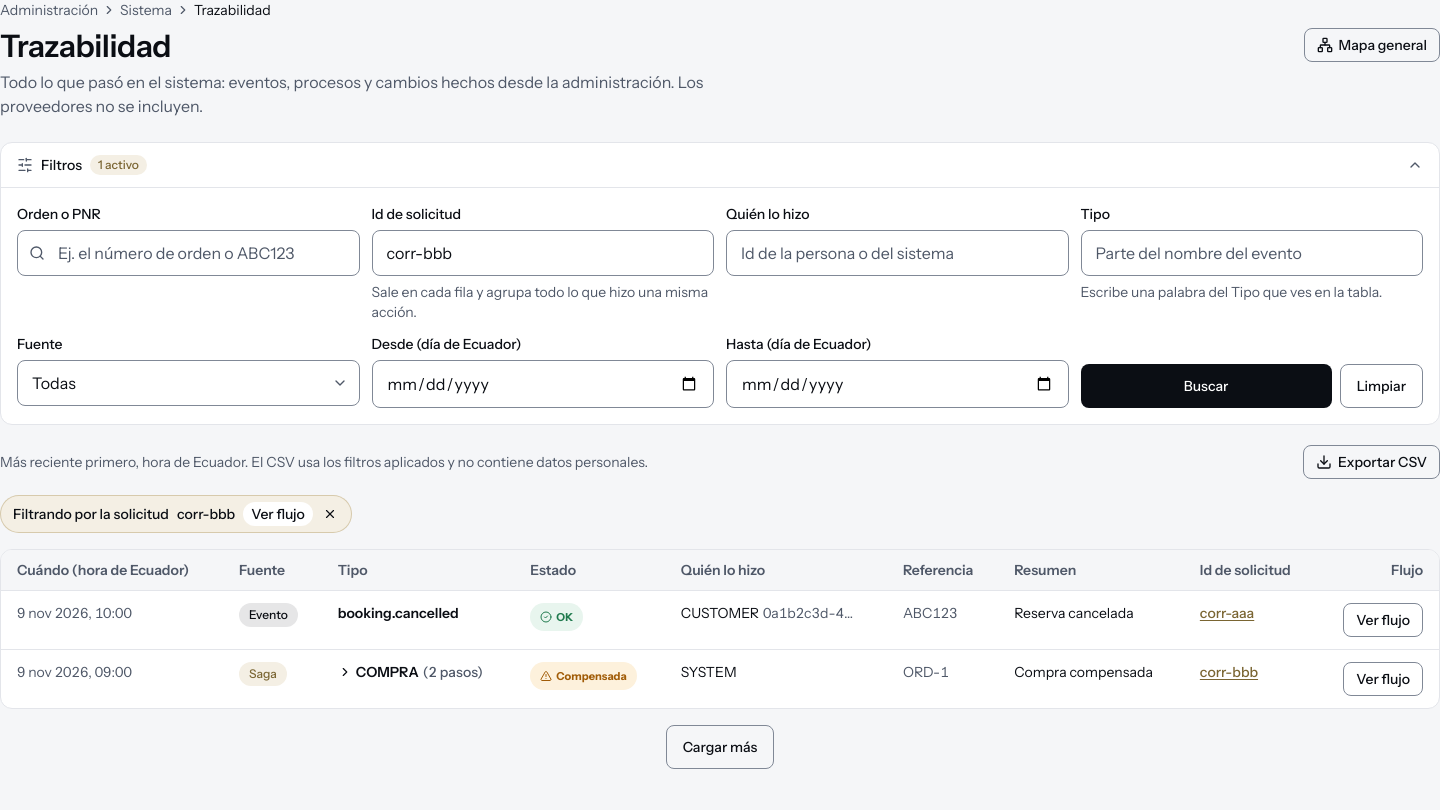
Test: AdminAuditPage (trazabilidad) › reads the correlation id from the link and offers the flow for the order in the filter
Expected: the text "booking.cancelled" is shown, [322,590,514,650]
Expected: the field labelled "Id de solicitud" holds "corr-bbb", [372,230,714,276]
Step 1. Type "ORD-1" into the dropdown labelled "Orden o PNR" → (188, 253), box [17,230,360,276]
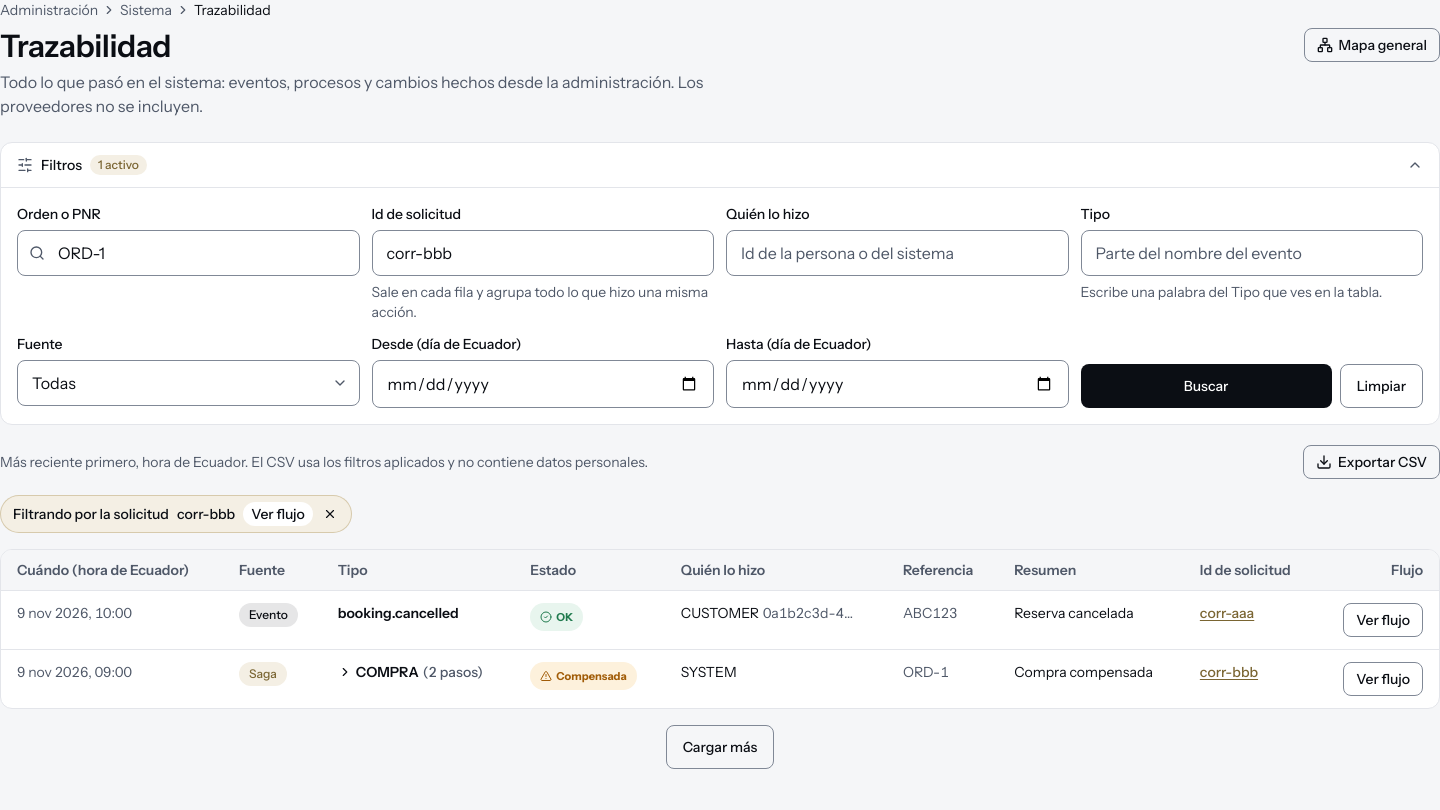
Step 2. Click the button "Buscar" → (1206, 386), box [1080,364,1332,408]
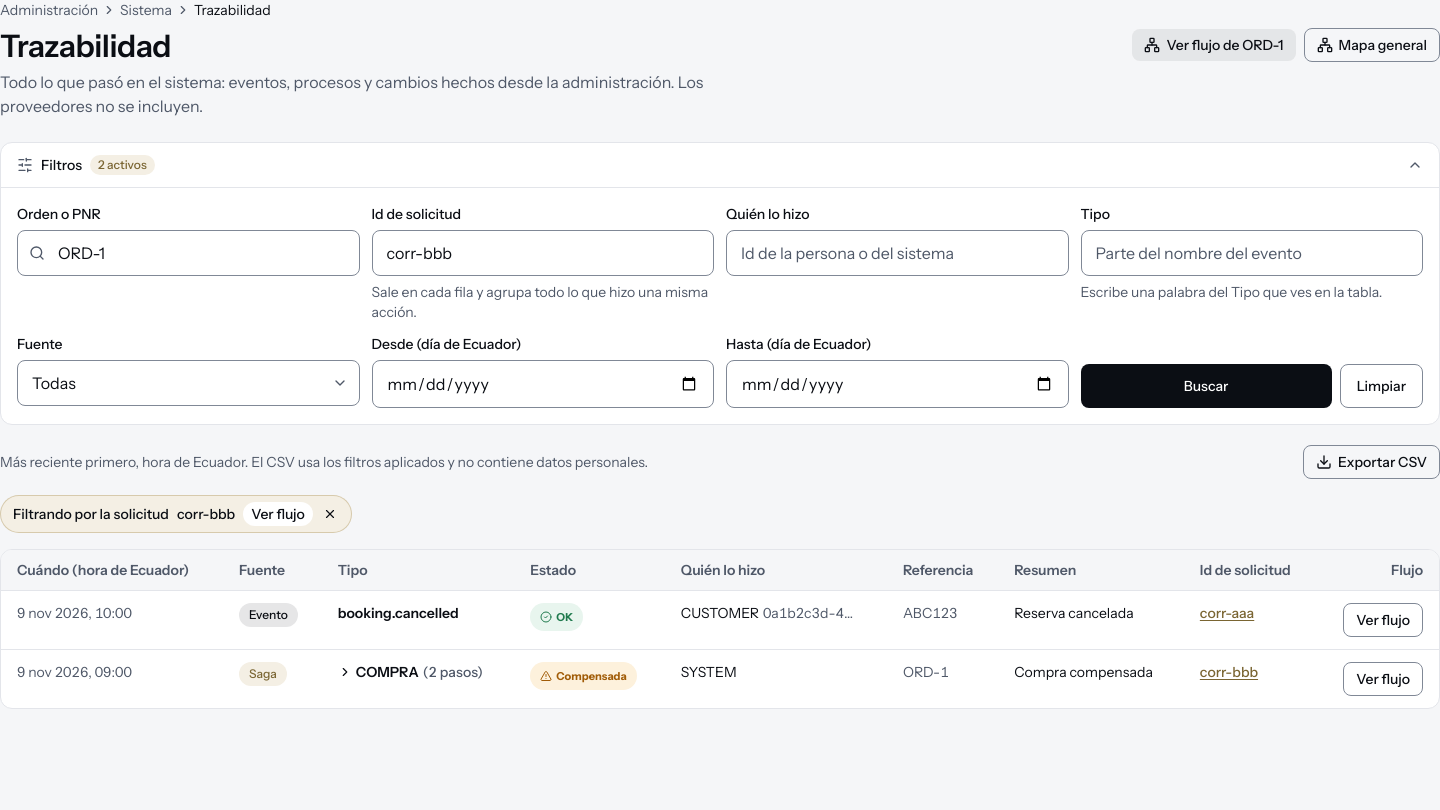
Step 3. Click the button "Ver flujo de ORD-1" → (1214, 45), box [1132,29,1296,61]
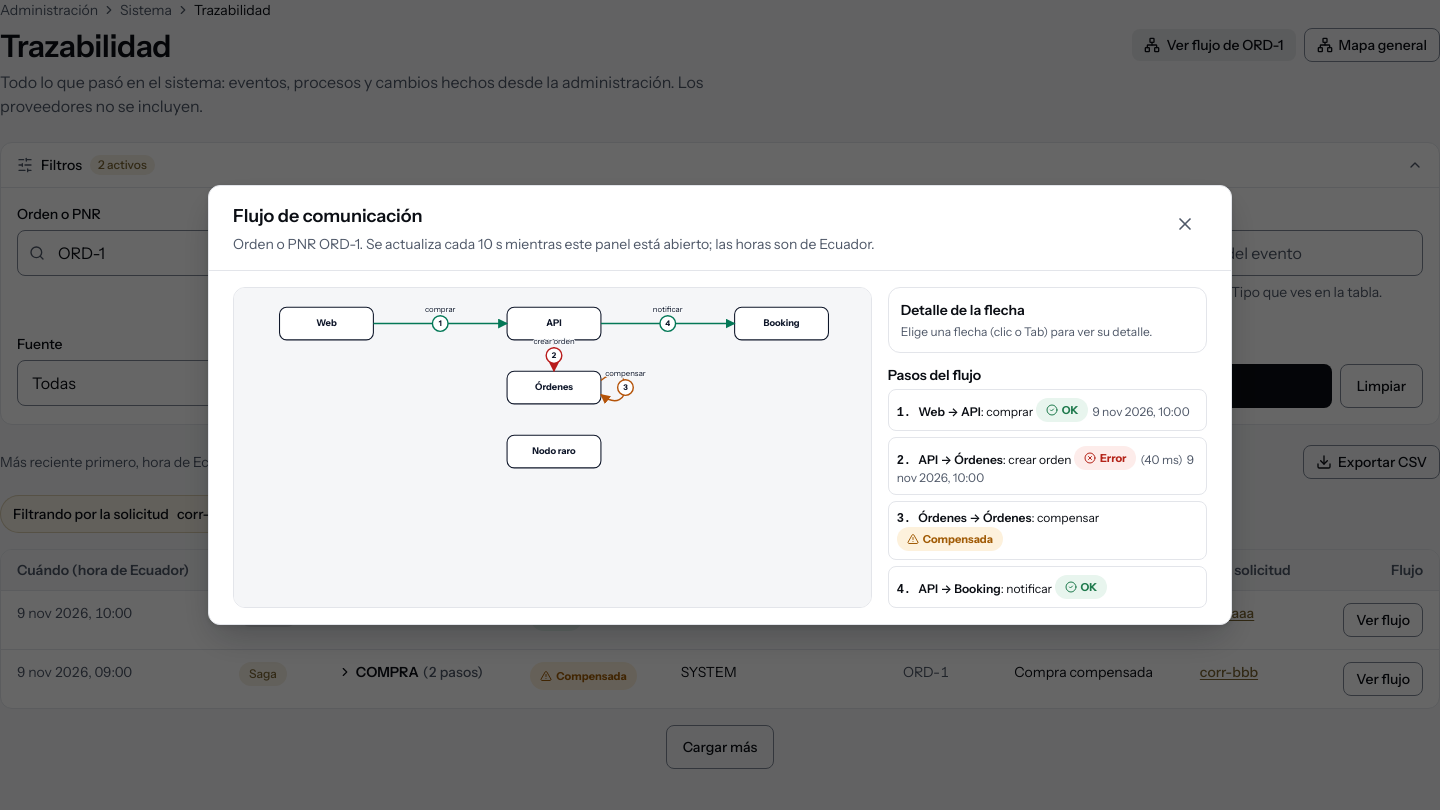
Now the dialog is shown, box [208,185,1232,625]
